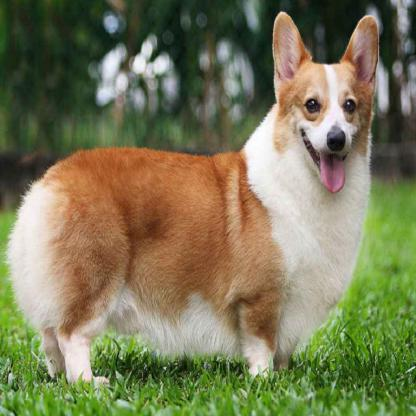Korgi: (4, 10, 381, 389)
